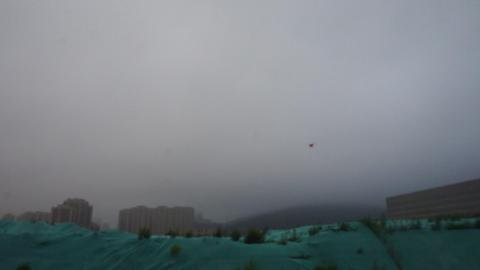UAV: (308, 143, 316, 148)
